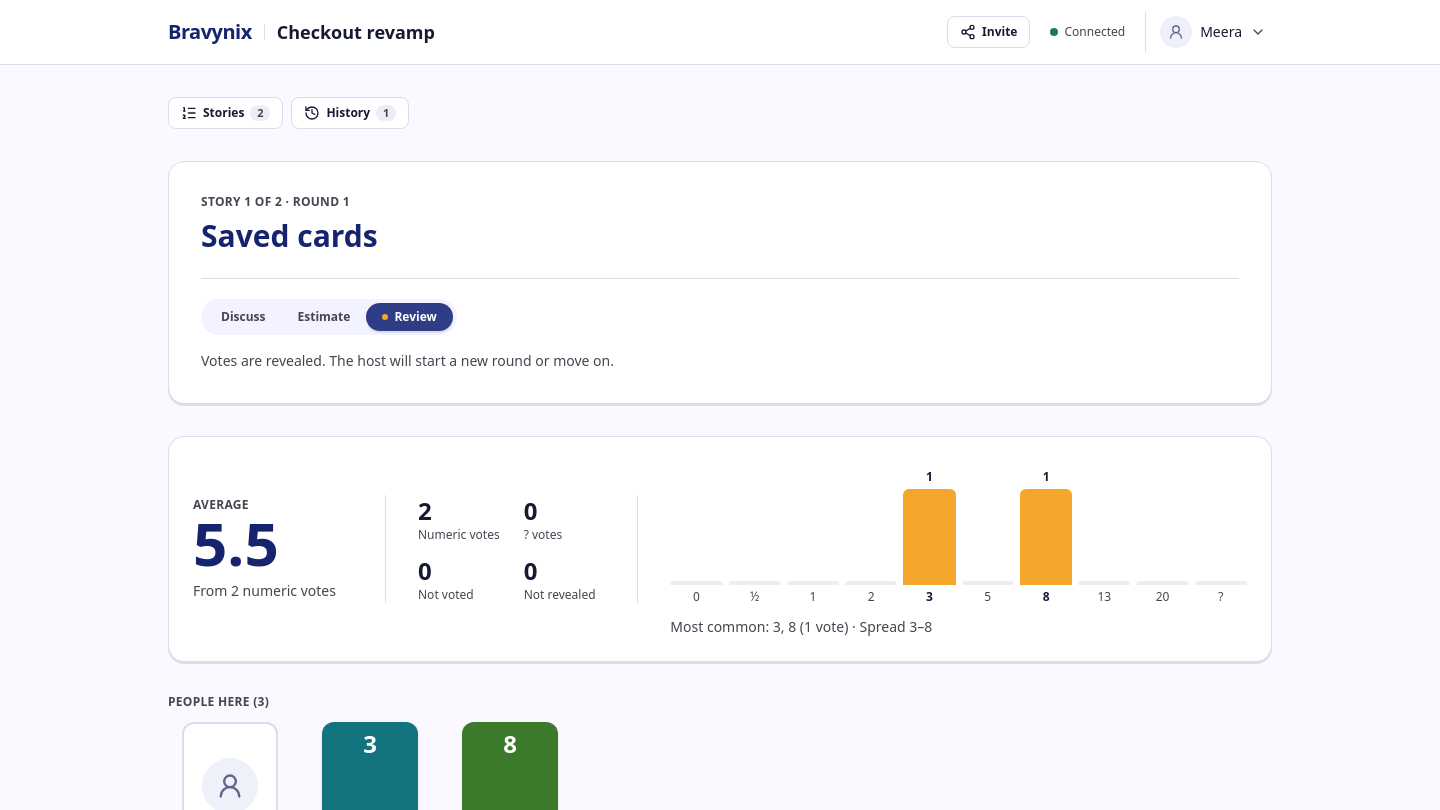
Test: RoomWorkspace › lists the revealed round in History with its votes (FR-020)
This screenshot has width=1440, height=810.
Click the button "History 1" at [350, 113], box [291, 97, 409, 129]
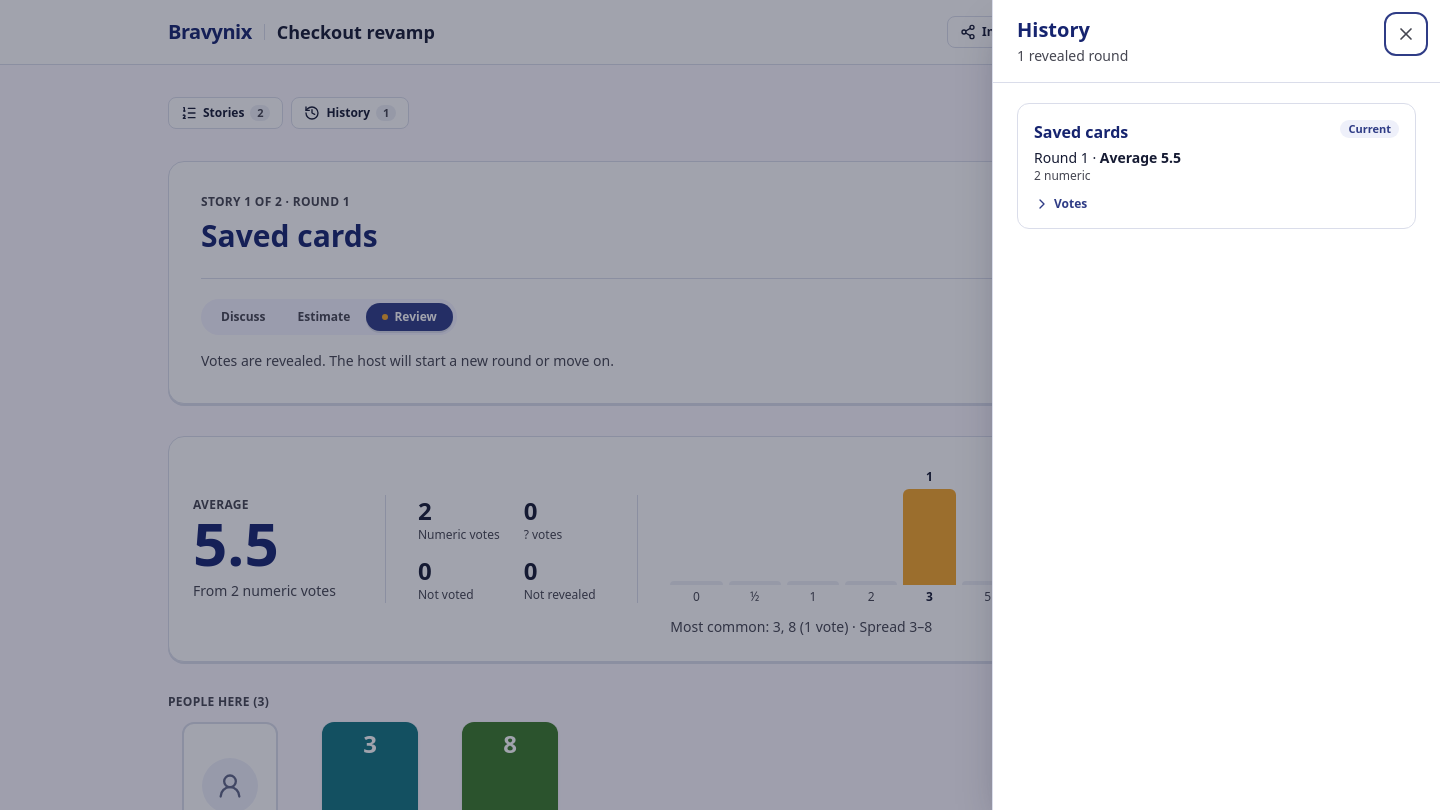
Expected: the heading "Saved cards" is shown, [1034, 120, 1128, 144]
Expected: the text "Average 5.5" is shown, [1100, 148, 1181, 167]
